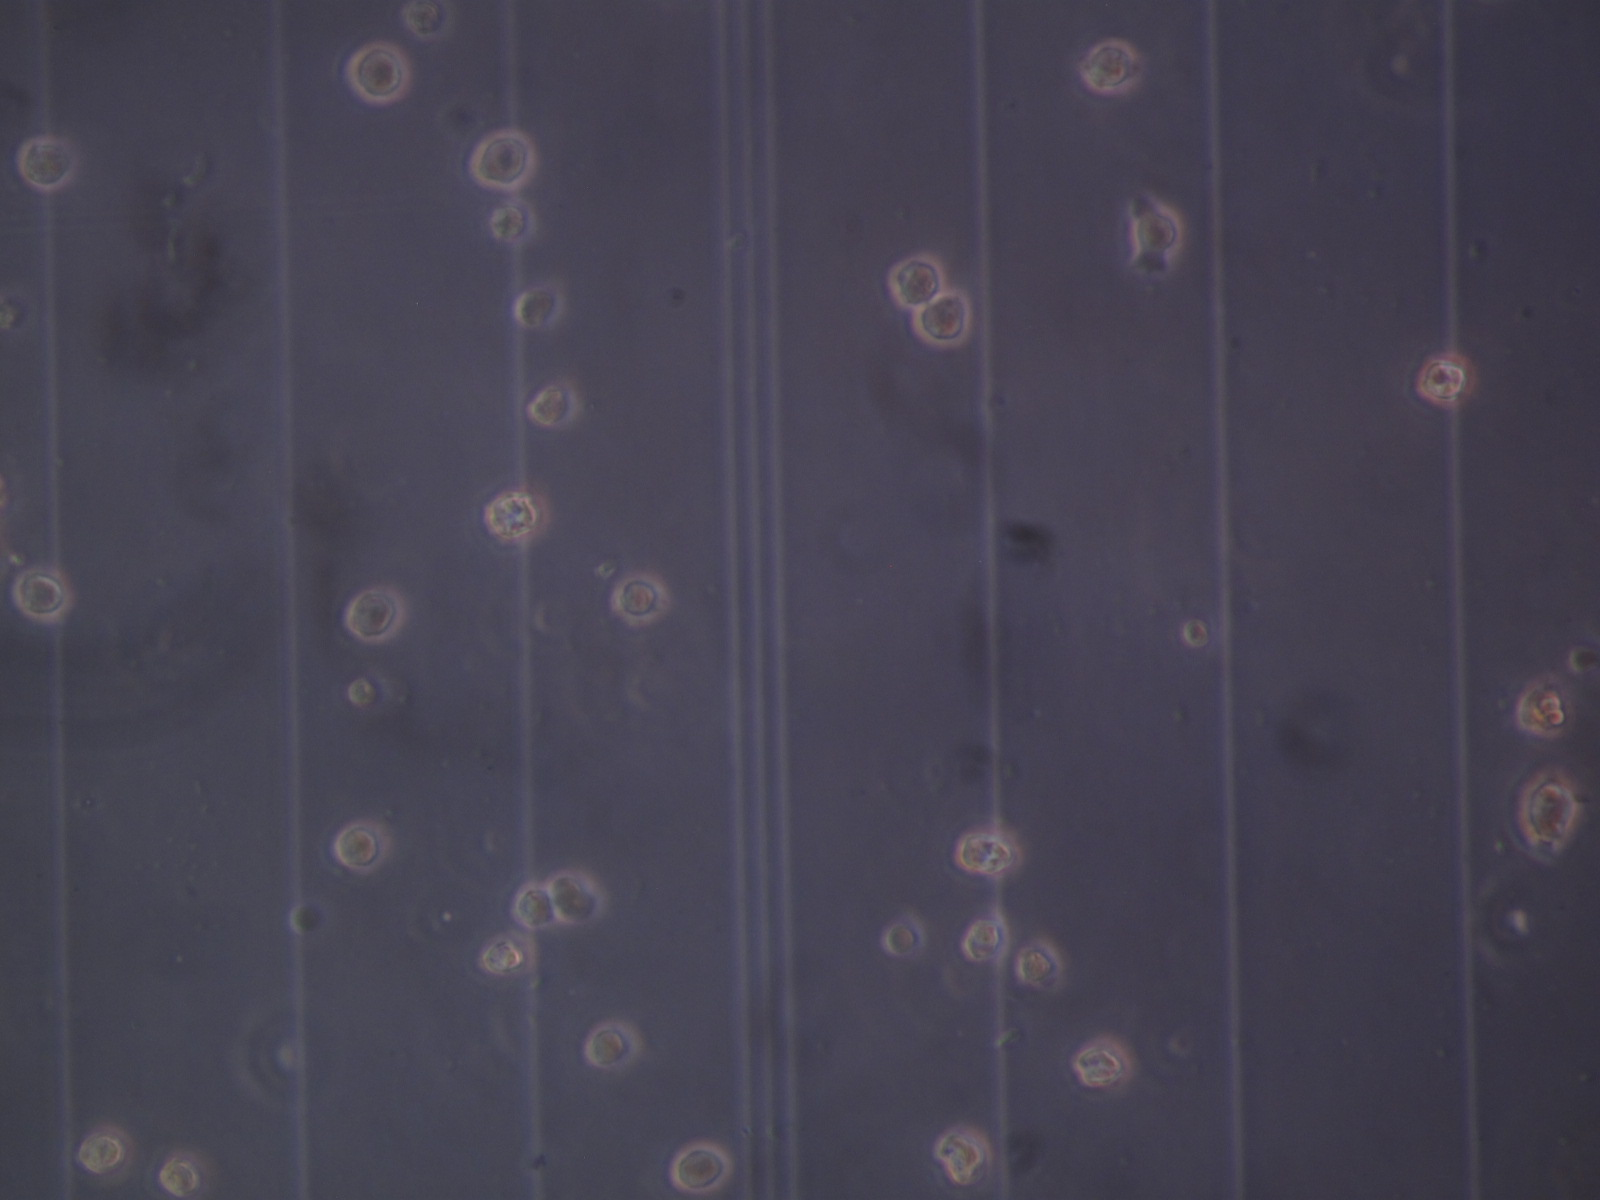hemo: (1516, 765, 1580, 852), (467, 126, 538, 189), (345, 43, 411, 106), (1072, 1032, 1134, 1093), (483, 488, 552, 541), (934, 1126, 991, 1186), (343, 587, 404, 643), (1081, 39, 1138, 97), (888, 250, 944, 309), (11, 568, 73, 621), (611, 571, 669, 626), (1415, 354, 1475, 407), (21, 135, 78, 190), (671, 1145, 734, 1194), (333, 821, 391, 874), (1519, 679, 1571, 739), (157, 1145, 213, 1197), (913, 294, 970, 345), (583, 1018, 643, 1068), (548, 872, 601, 926), (79, 1127, 134, 1180), (952, 829, 1013, 876), (513, 286, 566, 329), (511, 882, 559, 929), (1130, 209, 1180, 253), (530, 382, 580, 426), (479, 932, 527, 976), (489, 200, 539, 242), (1015, 940, 1061, 984), (961, 919, 1010, 959), (344, 672, 394, 708), (886, 916, 926, 955), (406, 1, 449, 38)
